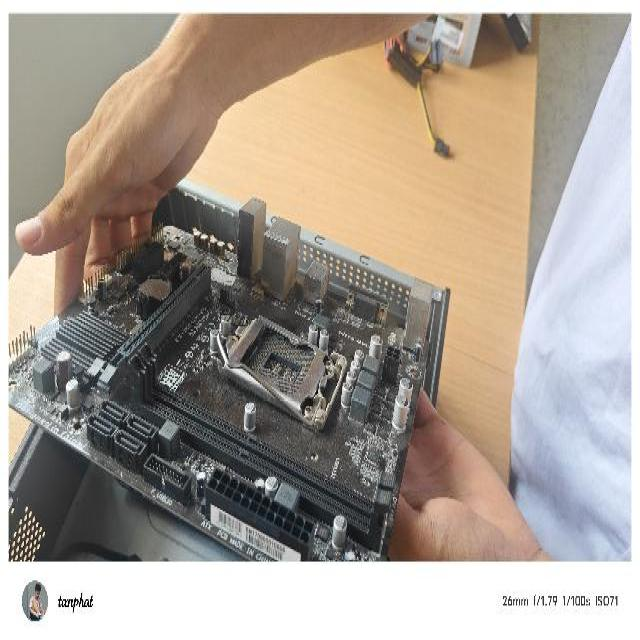Mainboard: (9, 174, 436, 560)
